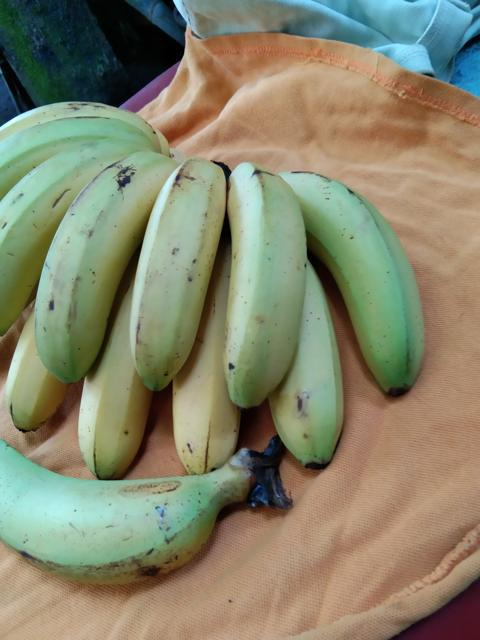freshripe: (292, 160, 431, 396)
ripe: (0, 443, 215, 593), (27, 143, 158, 382), (120, 148, 224, 391), (209, 152, 302, 412)
